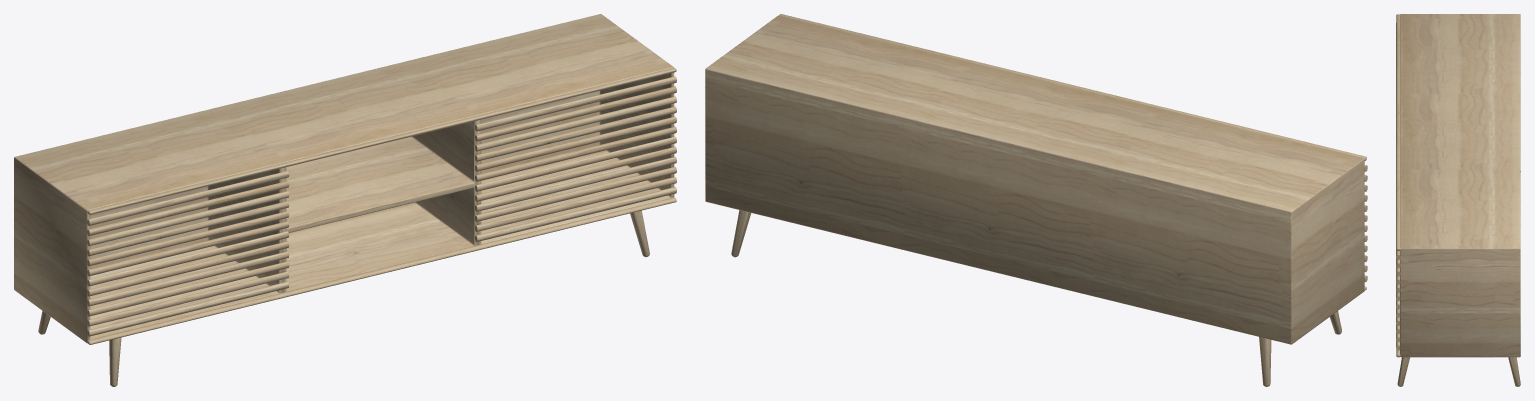
Rendered from tv_unit_cabinet_thomas_binder.glb.
The picture shows the model from 3 angles, left to right: view 1: azimuth 30°, elevation 25°; view 2: azimuth 150°, elevation 25°; view 3: azimuth 270°, elevation 25°; orthographic projection. The views are drawn at different scales.
Visible parts, largest first — view 1: Object_4; view 2: Object_4; view 3: Object_4.
Part boxes in pixels (left/top/right/bottom): Object_4: left=14, top=14, right=676, bottom=386; Object_4: left=705, top=14, right=1367, bottom=386; Object_4: left=1396, top=14, right=1520, bottom=386.
Bounding box in the file's own units: 3.96 × 1.18 × 0.8881.
Materials: 1 (1 with a texture image).
